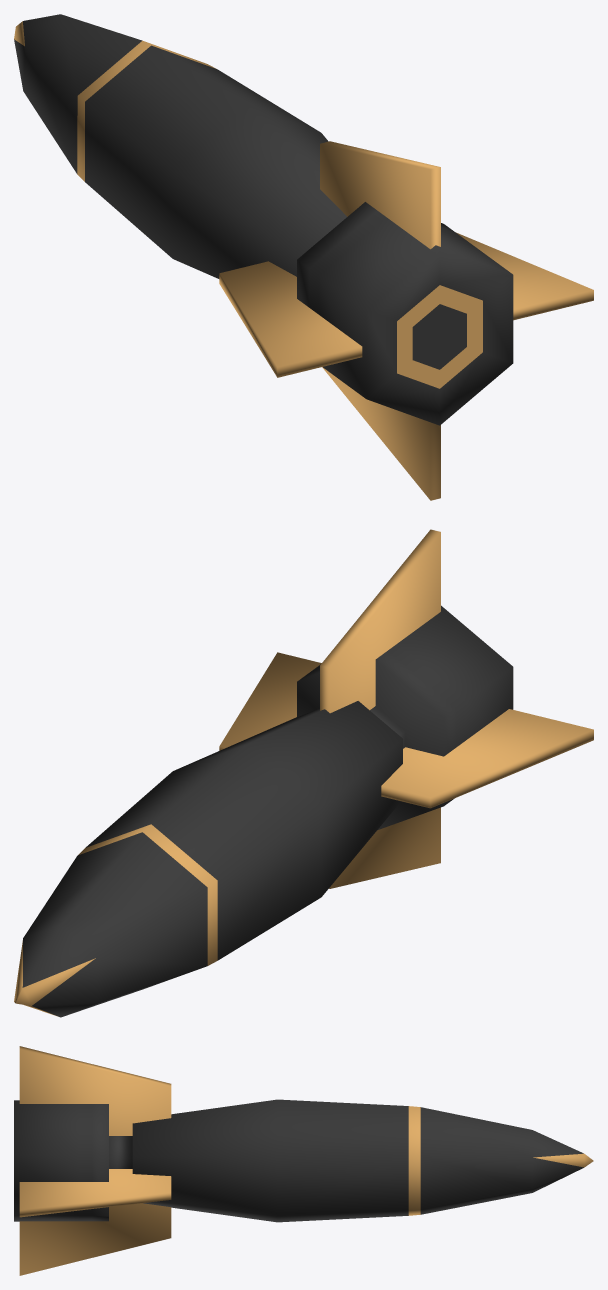
File: Attack_MiniBoss_C_B.fbx
3 views of the same model, one above another, from view 1: azimuth 30°, elevation 25°; view 2: azimuth 150°, elevation 25°; view 3: azimuth 270°, elevation 25° (orthographic). The views are drawn at different scales.
Visible parts, largest first — view 1: Attack_MiniBoss_C_B; view 2: Attack_MiniBoss_C_B; view 3: Attack_MiniBoss_C_B.
Boxes of the visible parts, x1,y1,x2,y2 form: Attack_MiniBoss_C_B: [14, 14, 593, 500]; Attack_MiniBoss_C_B: [14, 529, 593, 1017]; Attack_MiniBoss_C_B: [14, 1046, 593, 1275].
Bounding box in the file's own units: 99 × 99 × 230.
